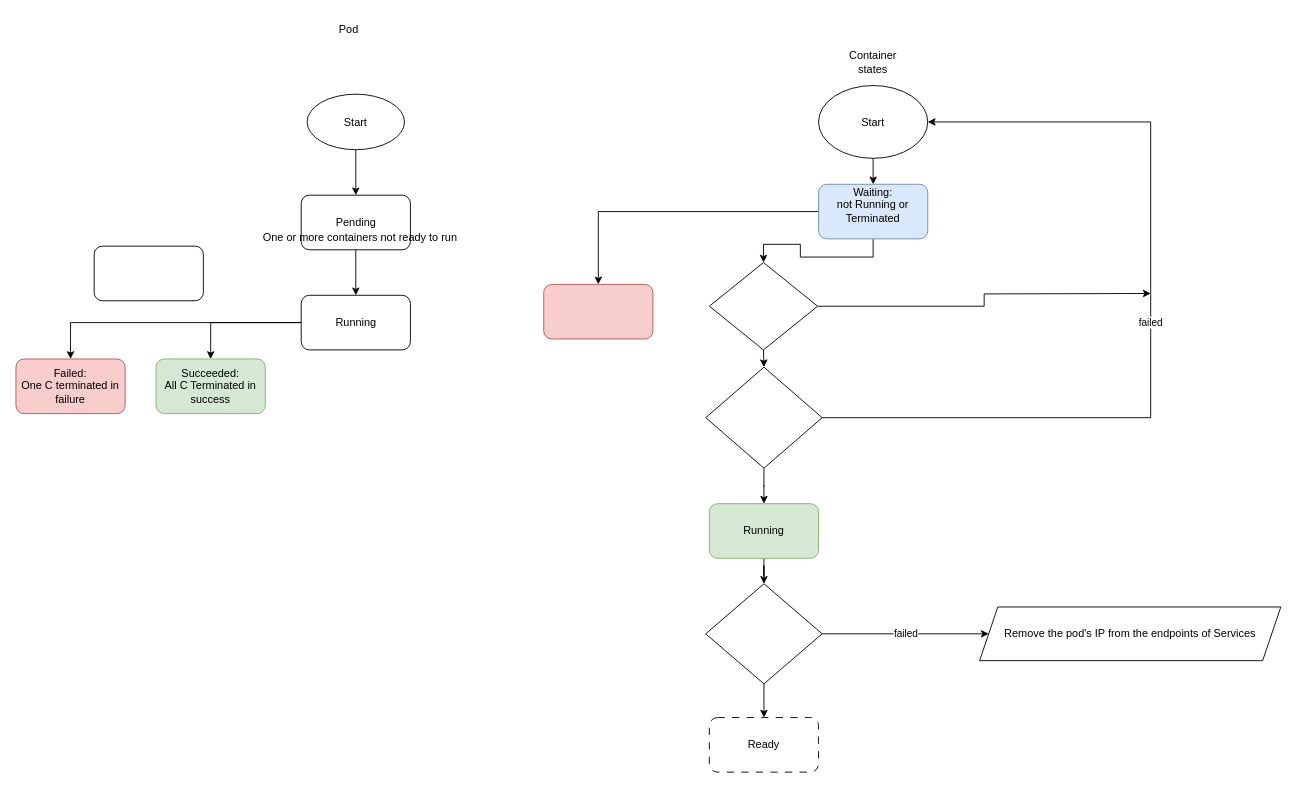
The diagram is 1297 pixels wide and 788 high, and some of its shapes have lost their labels. Here are the shapes that lost their labels. From the top down, the centre of each, then its label:
the point at 148,273: Unknown: state of Pod can't be obtained
the point at 598,311: Terminated: completed or failed for some reason
the point at 763,306: StartupProbe
the point at 763,417: LivenessProbe: Success if C is running
the point at 763,633: ReadinessProbe: Success if C is ready to respond to requests
